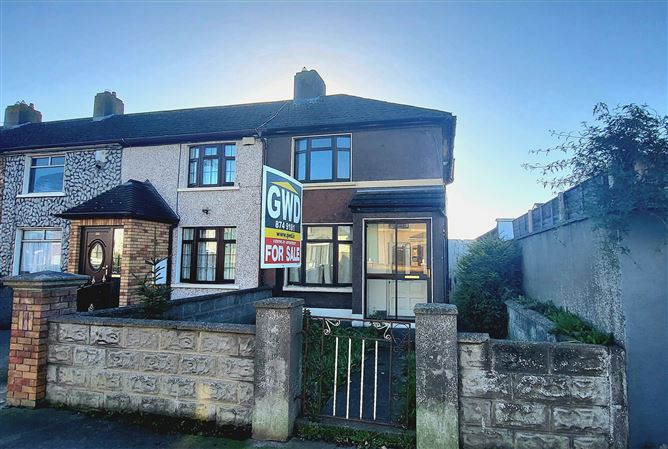property sign: (244, 149, 323, 277)
